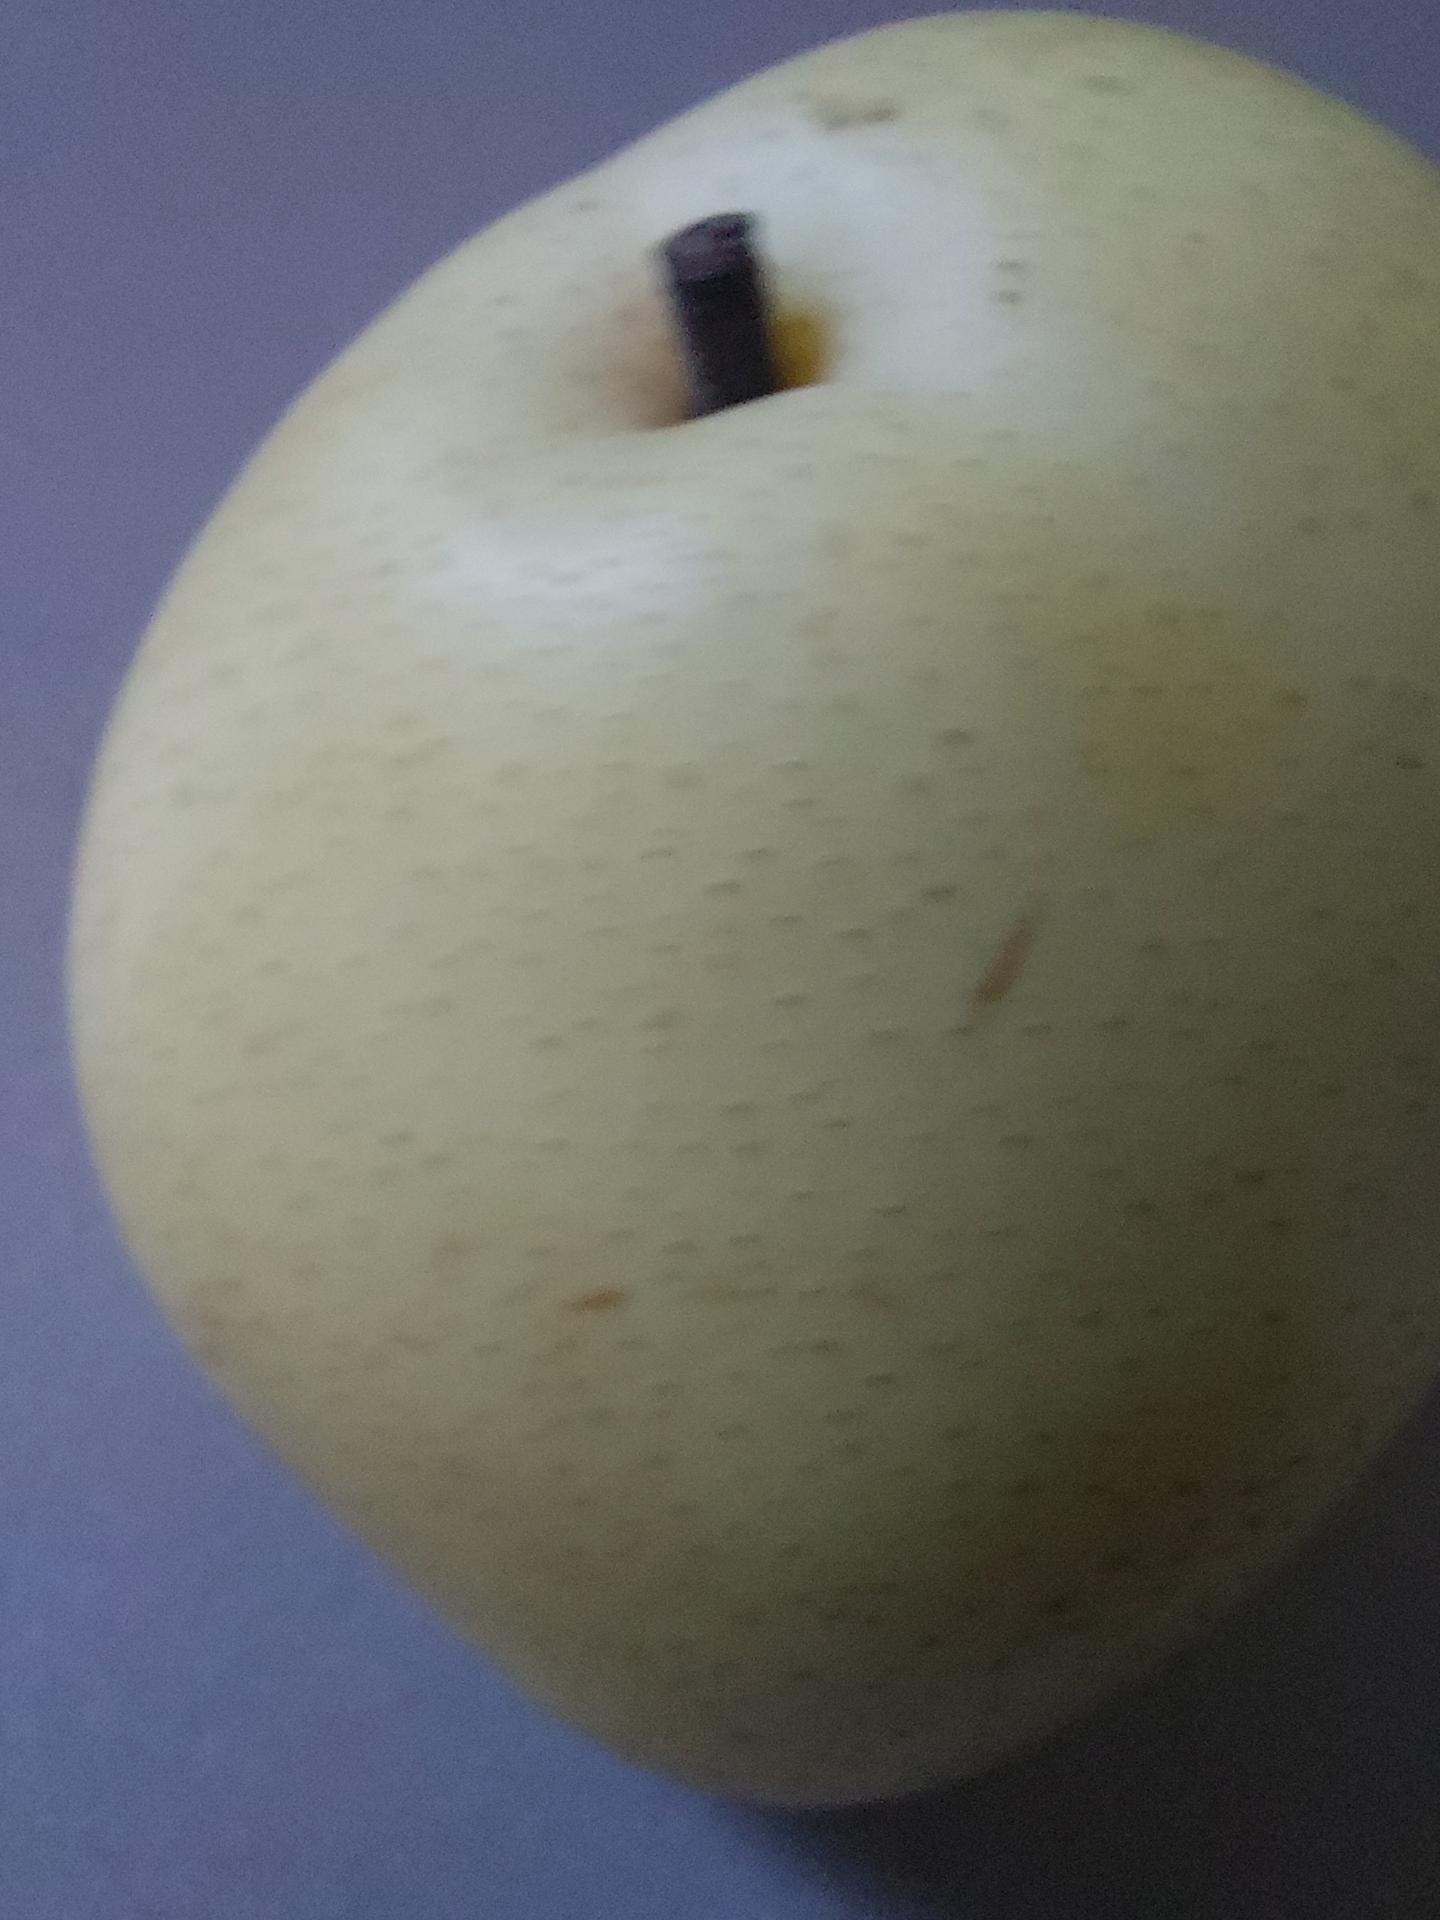Good Pear: (54, 11, 1440, 1813)
